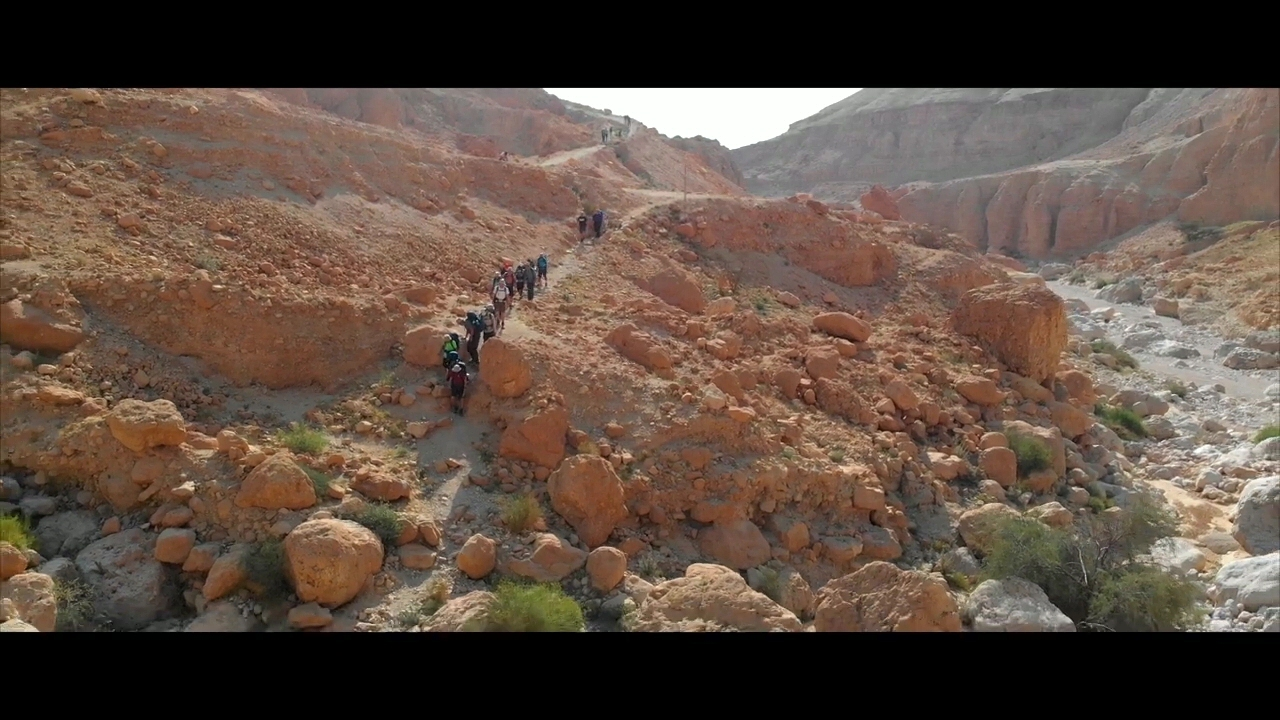insan: (446, 350, 475, 416), (454, 311, 481, 364), (491, 278, 510, 333), (442, 332, 459, 370), (502, 265, 519, 302), (480, 303, 496, 341), (514, 263, 530, 301), (592, 207, 608, 245), (524, 261, 537, 300), (536, 252, 550, 287), (573, 208, 587, 240), (600, 126, 607, 143), (607, 125, 614, 140)
